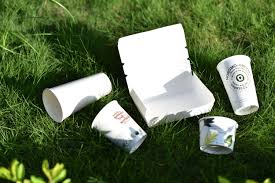paper_cup: (42, 71, 114, 124), (91, 99, 147, 154), (216, 54, 260, 116), (196, 116, 237, 155)
